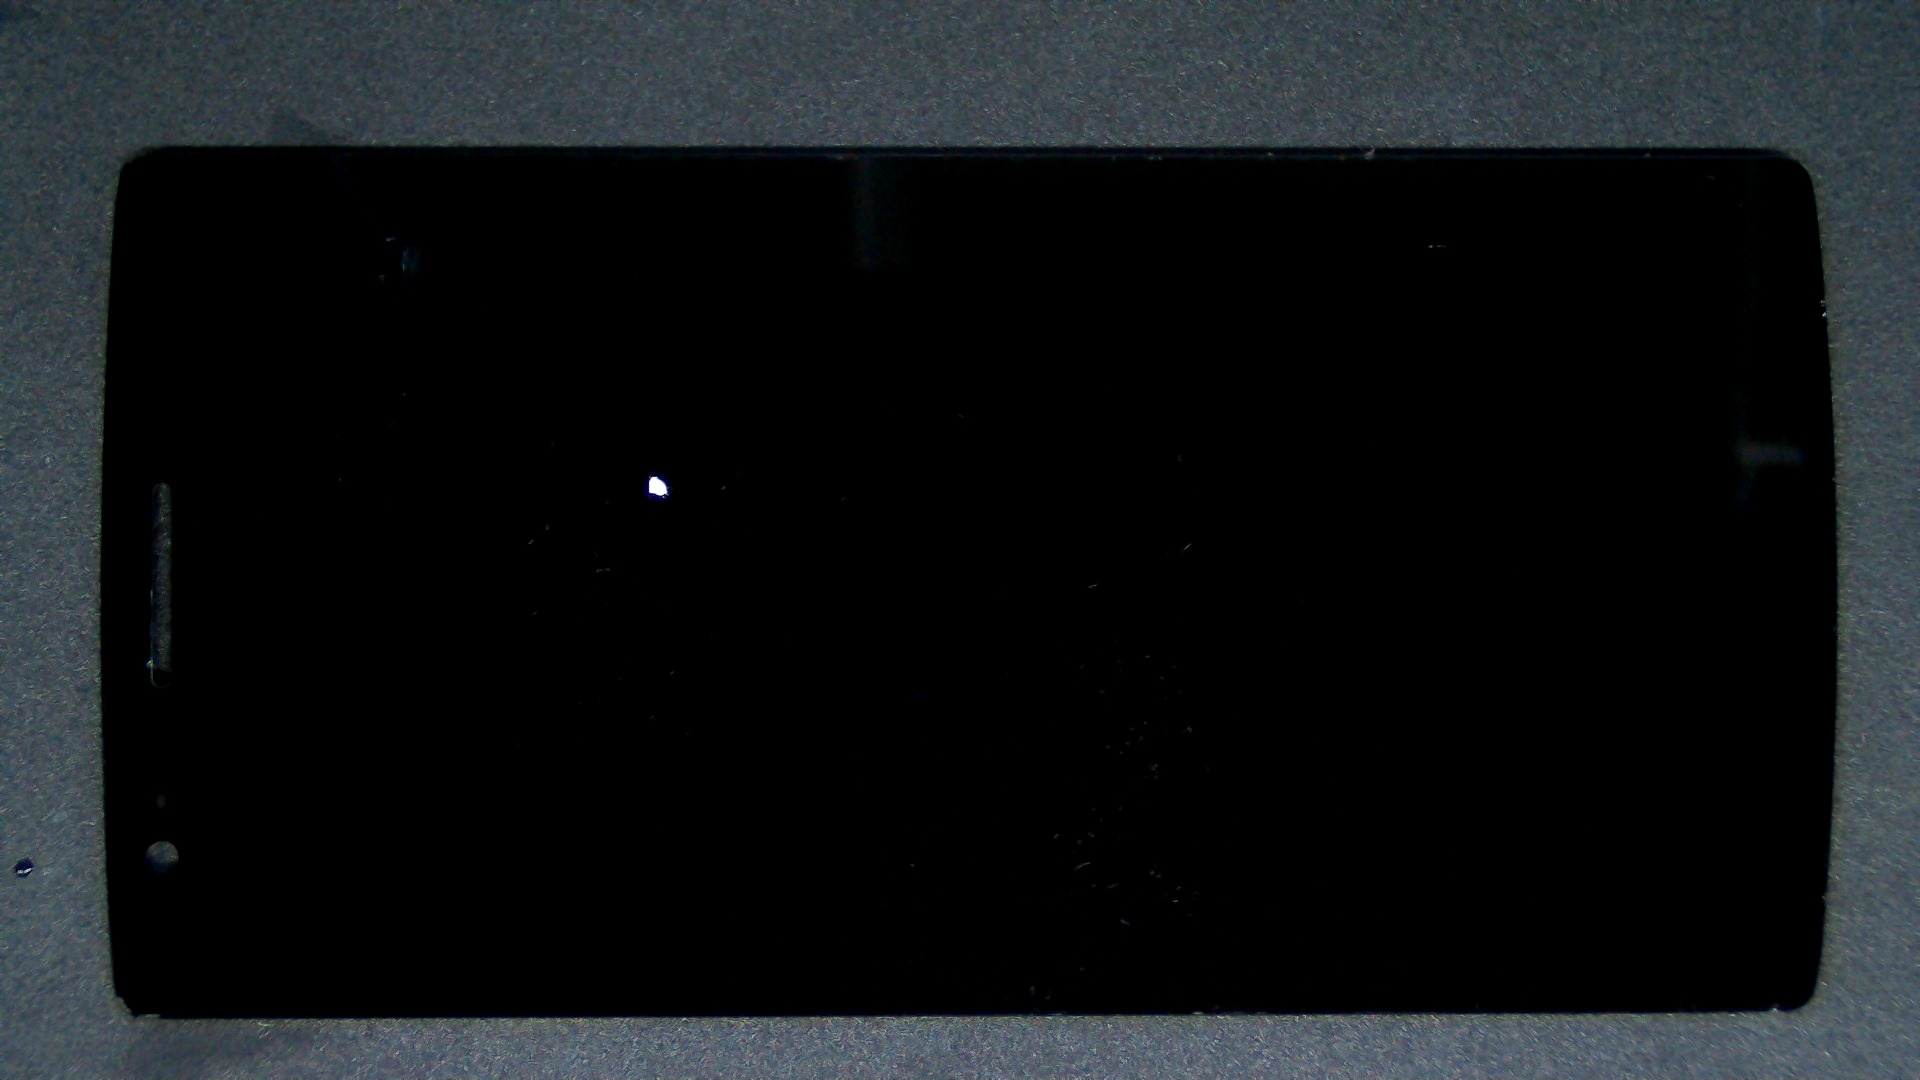oil: (328, 236, 985, 712)
